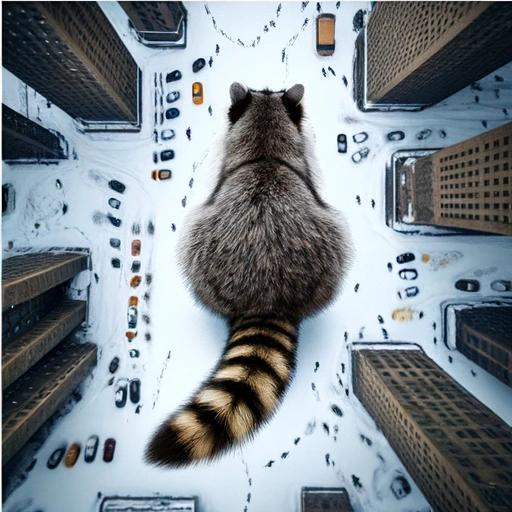raccoon: (138, 78, 359, 473)
